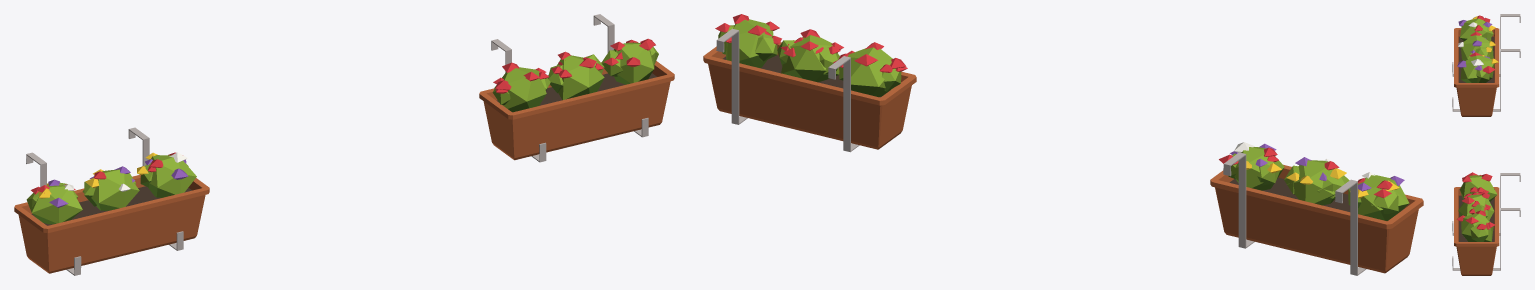
The model's file is SM_Fixture_RailPlanterFull_Alu_364_Flower_01.gltf.
3 views of the same model, side by side, from view 1: azimuth 30°, elevation 25°; view 2: azimuth 150°, elevation 25°; view 3: azimuth 270°, elevation 25° (orthographic). The views are drawn at different scales.
Visible parts, largest first — view 1: SM_Fixture_RailPlanterFull_Alu_364_Flower_01; view 2: SM_Fixture_RailPlanterFull_Alu_364_Flower_01; view 3: SM_Fixture_RailPlanterFull_Alu_364_Flower_01.
Boxes of the visible parts, x1,y1,x2,y2 form: SM_Fixture_RailPlanterFull_Alu_364_Flower_01: (14, 14, 674, 275); SM_Fixture_RailPlanterFull_Alu_364_Flower_01: (703, 14, 1423, 275); SM_Fixture_RailPlanterFull_Alu_364_Flower_01: (1452, 14, 1520, 275).
Bounding box in the file's own units: 2.46 × 0.3225 × 0.329.
1 material, 1 textured.
